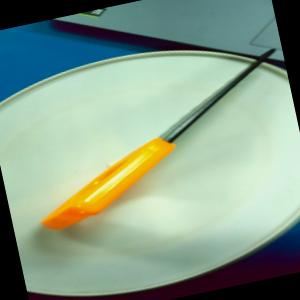serrote: (14, 46, 300, 231)
